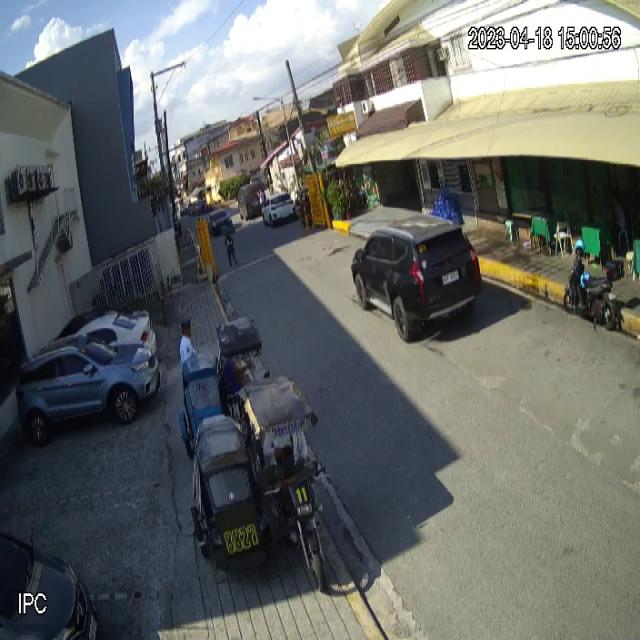Car: (15, 330, 163, 449), (350, 216, 484, 344)
Motorcycle: (562, 250, 626, 337)
Tricycle: (189, 372, 329, 592), (178, 313, 266, 461)
